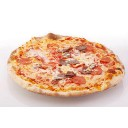pepperonipizza: (8, 32, 125, 96)
